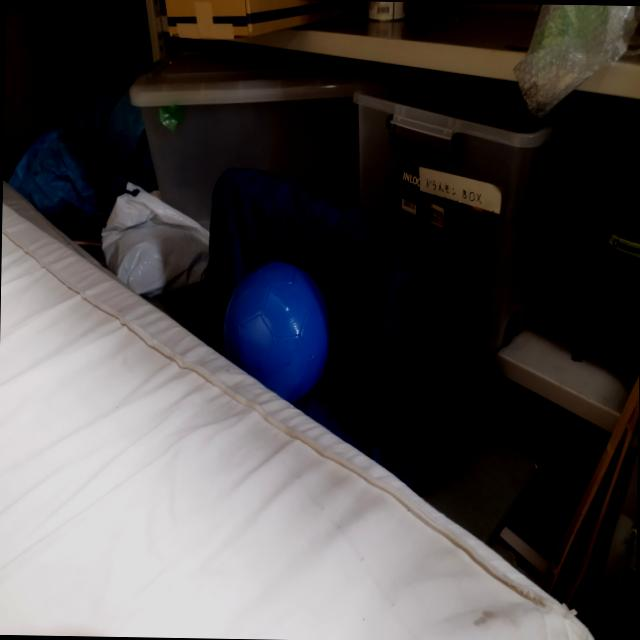blue_ball: (223, 260, 333, 402)
